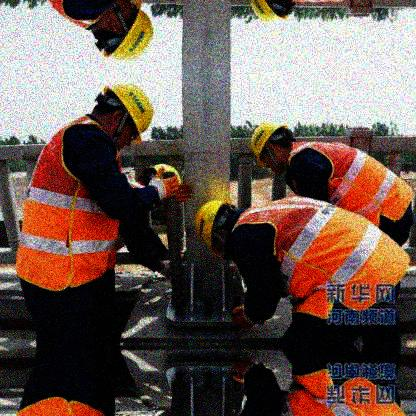helmet: (94, 83, 156, 147), (97, 1, 155, 63), (249, 120, 292, 176), (194, 198, 234, 258), (143, 161, 184, 200)
